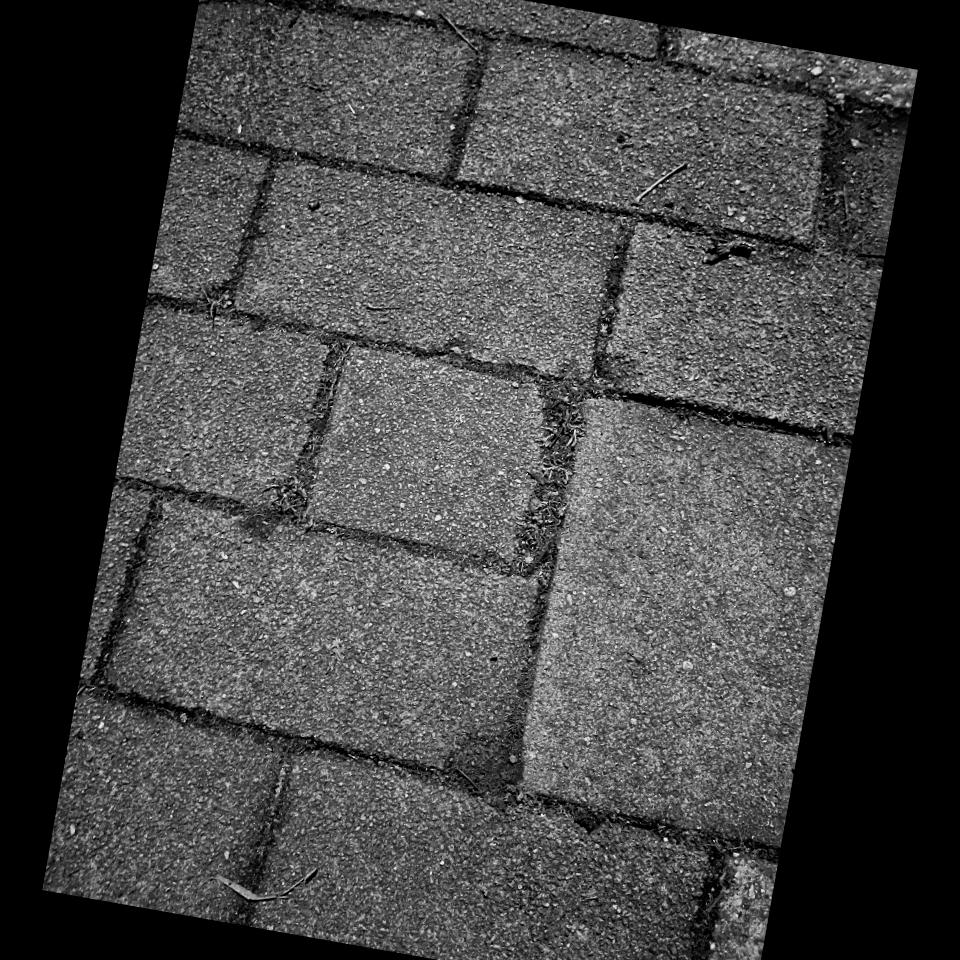weed: (145, 284, 586, 524), (517, 382, 592, 584), (276, 330, 351, 522), (276, 458, 316, 522), (509, 672, 533, 739)
